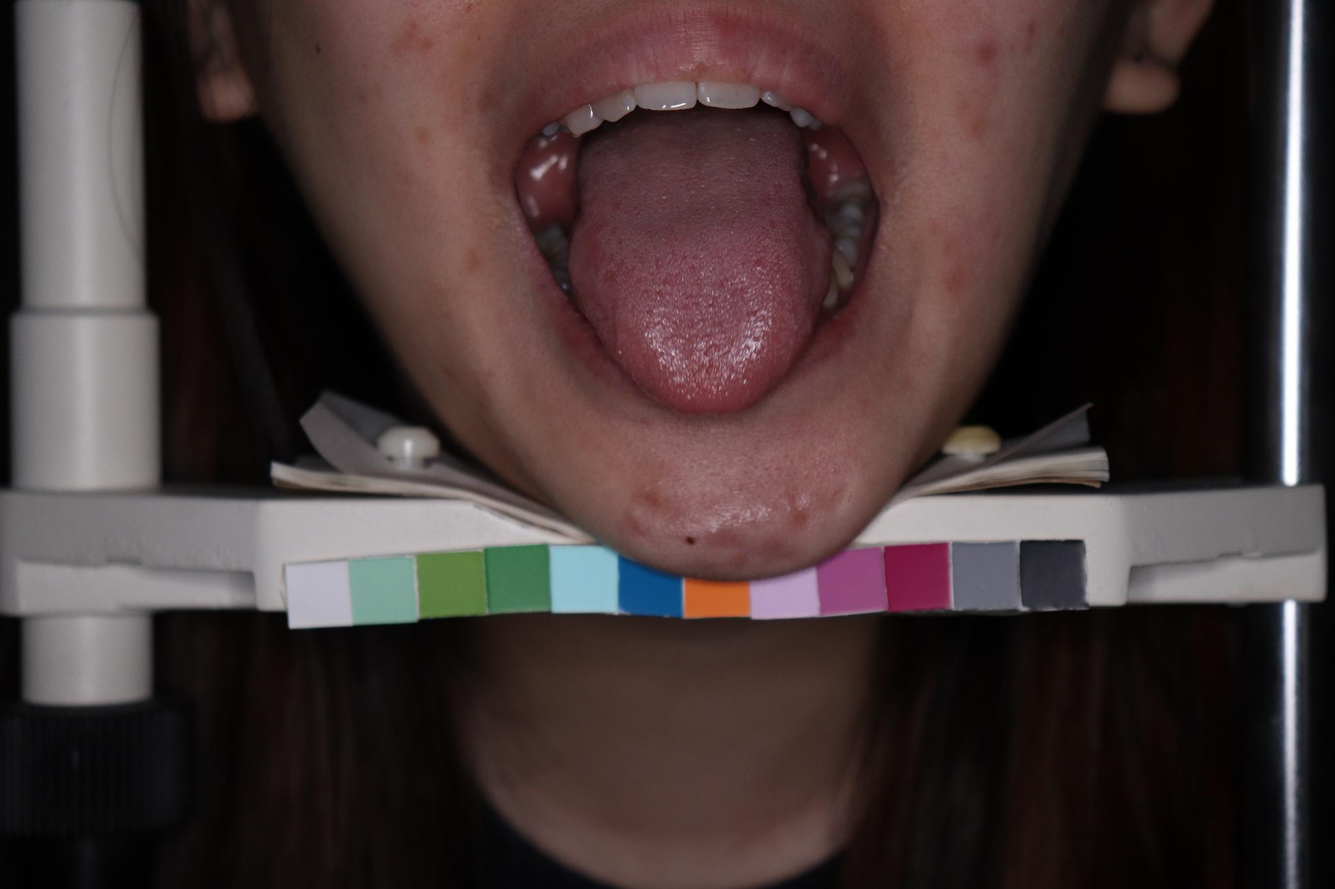baitaishe: (569, 115, 832, 414)
